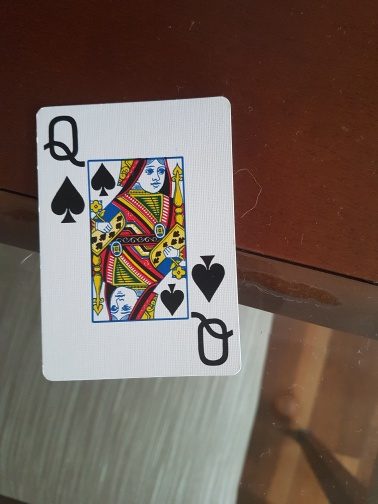queen: (36, 96, 242, 381)
